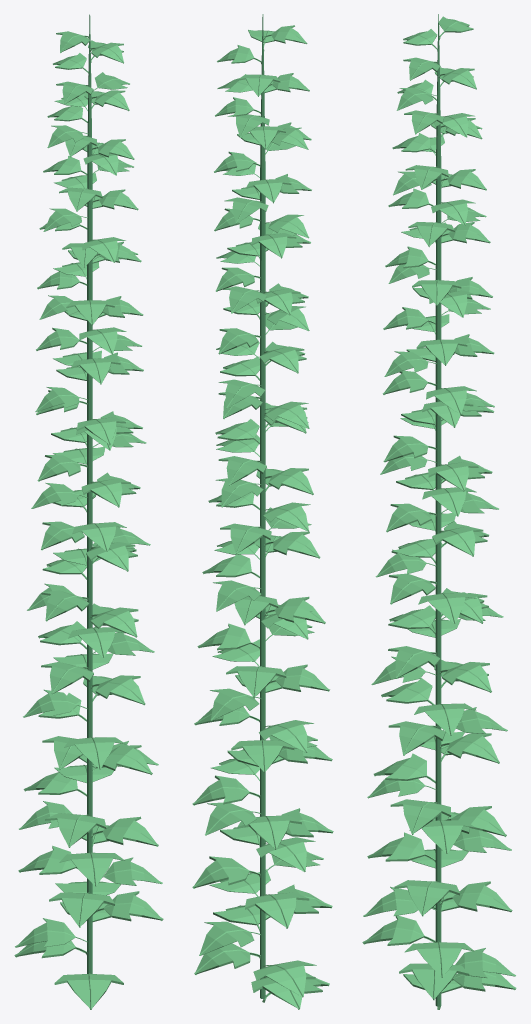
Rendered from vine.glb.
3 renders of one model, left to right at view 1: azimuth 90°, elevation 25°; view 2: azimuth 210°, elevation 25°; view 3: azimuth 270°, elevation 25°, orthographic. The views are drawn at different scales.
Parts seen in each view (by area): view 1: Vine_A_base; view 2: Vine_A_base; view 3: Vine_A_base.
Part boxes in pixels (x1,y1,x2,y2): Vine_A_base: (14,14,163,1009); Vine_A_base: (192,14,333,1009); Vine_A_base: (362,14,516,1009).
Bounding box in the file's own units: 1.31 × 9.26 × 1.3.
1 material, 1 textured.
